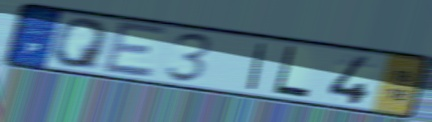3: (164, 32, 215, 84)
4: (325, 52, 373, 106)
E: (100, 19, 170, 80)
I: (244, 41, 270, 92)
L: (270, 44, 312, 100)
Q: (50, 17, 112, 72)
